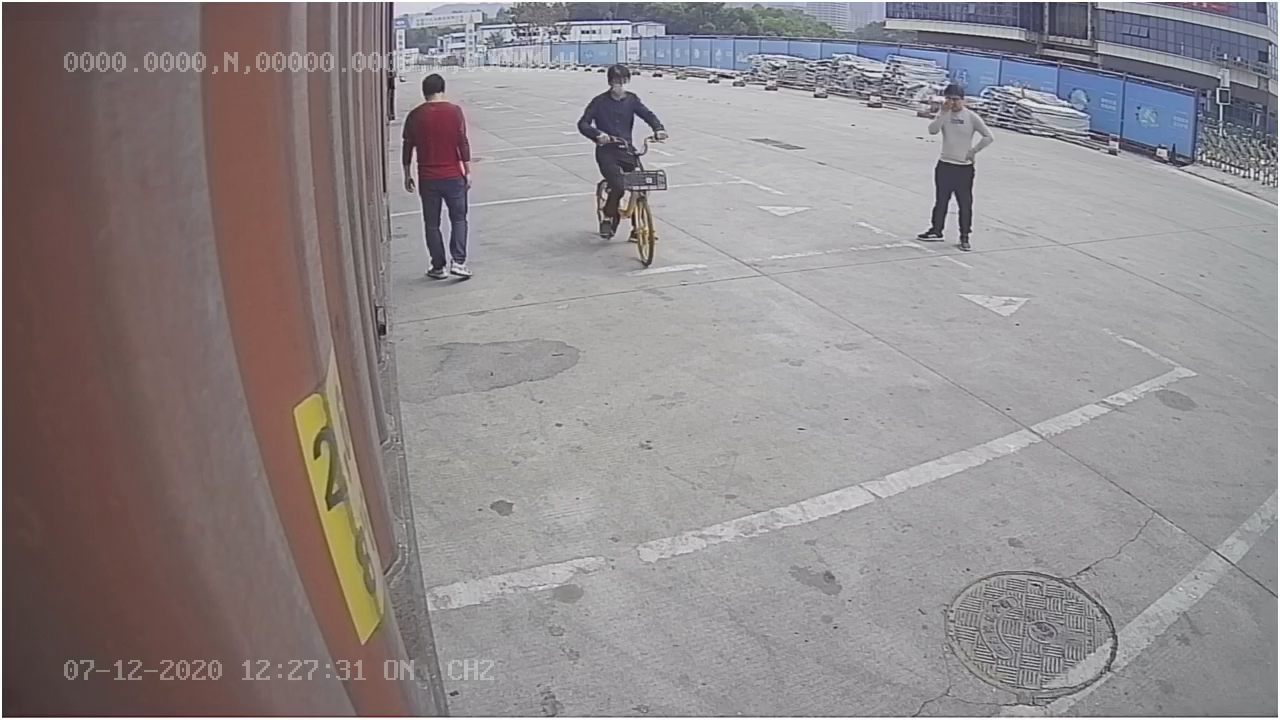person: (396, 73, 479, 286)
